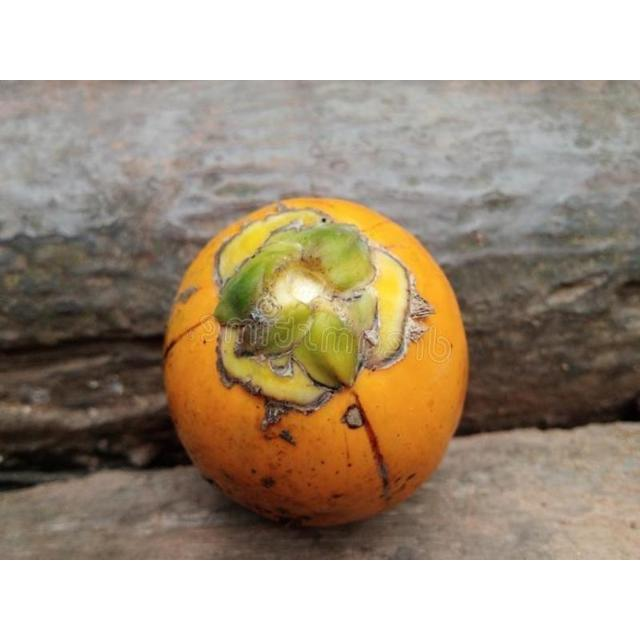good: (161, 198, 470, 531)
